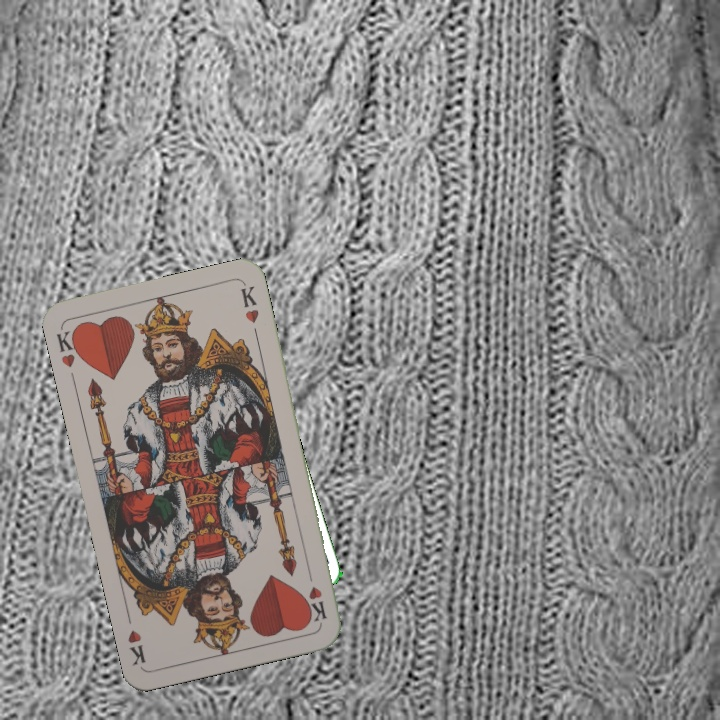HK: (52, 324, 85, 370), (303, 566, 329, 624)
